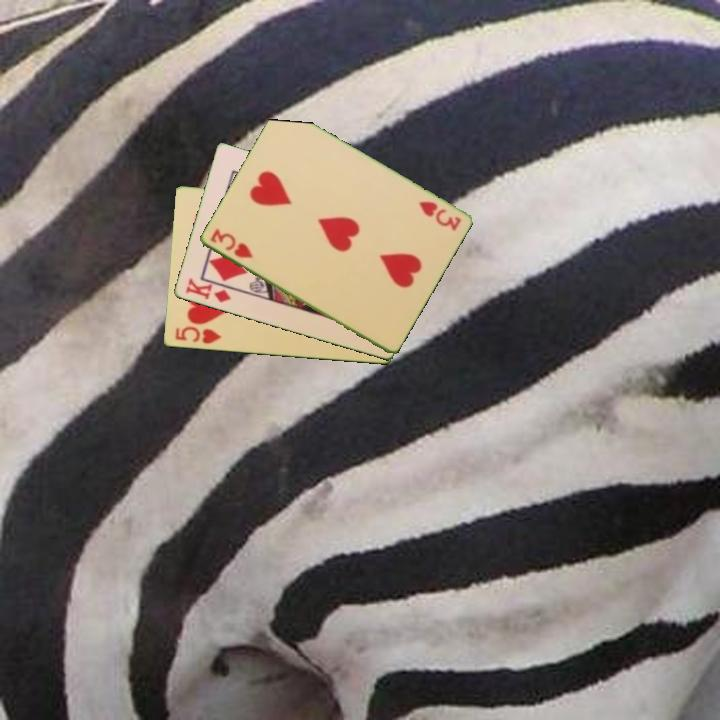3h: (206, 225, 255, 261), (415, 198, 464, 234)
5h: (172, 323, 224, 347)
Kd: (181, 275, 234, 306)
